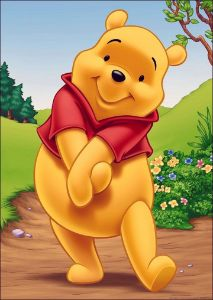bear: (34, 6, 186, 291)
